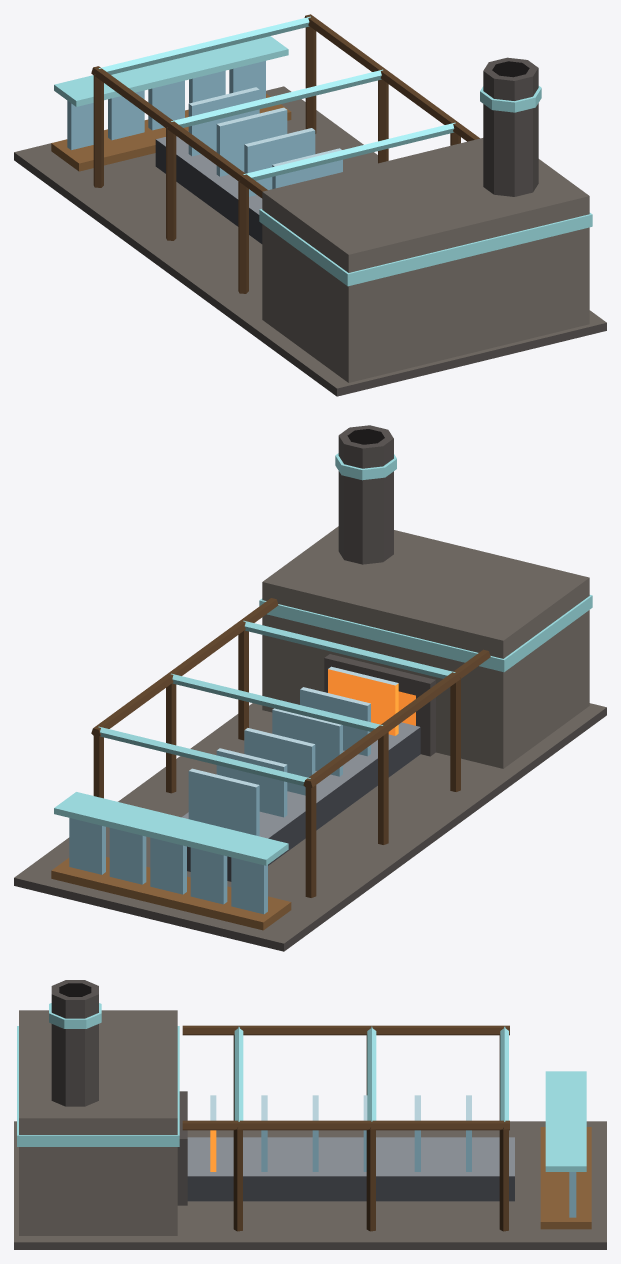
Rendered from glassworks.glb.
The picture shows the model from 3 angles, top to bottom: view 1: azimuth 30°, elevation 25°; view 2: azimuth 150°, elevation 25°; view 3: azimuth 270°, elevation 25°; orthographic projection. The views are drawn at different scales.
Visible parts, largest first — view 1: glassworks; view 2: glassworks; view 3: glassworks.
Part boxes in pixels (x1,y1,x2,y2): glassworks: [14, 14, 606, 396]; glassworks: [14, 425, 606, 951]; glassworks: [14, 980, 606, 1249].
Size of the model in its own units: 2.8 by 2.5 by 5.8.
